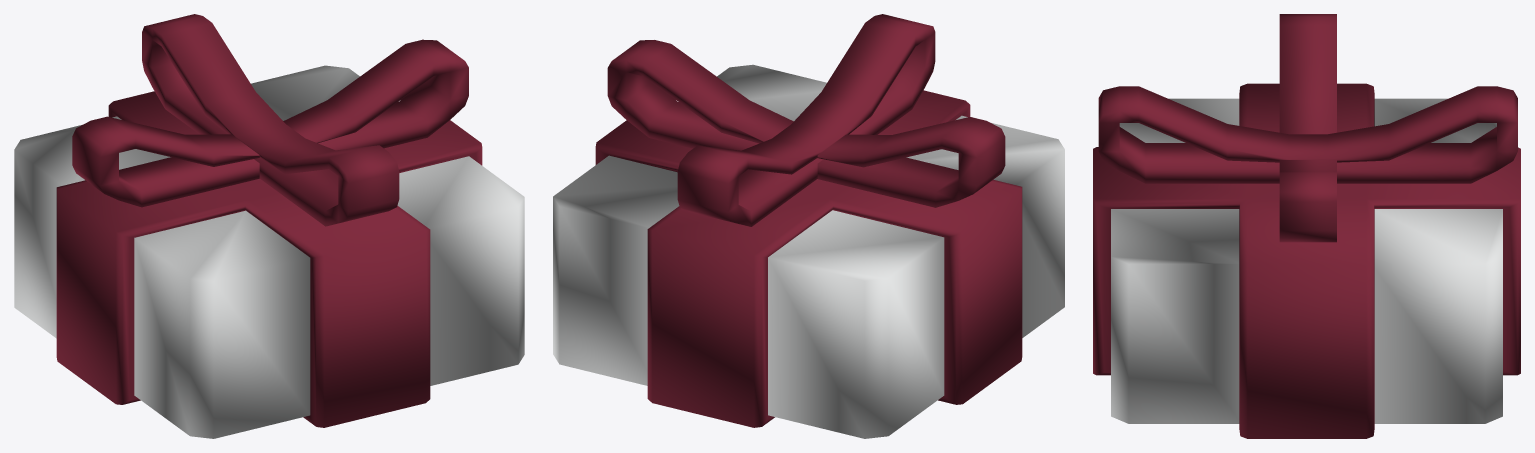
File: giftSmallLow.fbx
3 views of the same model, side by side, from view 1: azimuth 30°, elevation 25°; view 2: azimuth 150°, elevation 25°; view 3: azimuth 270°, elevation 25° (orthographic).
Visible parts, largest first — view 1: giftSmallLow; view 2: giftSmallLow; view 3: giftSmallLow.
Part boxes in pixels (<box>): giftSmallLow: <box>14,14,524,438</box>; giftSmallLow: <box>553,14,1064,438</box>; giftSmallLow: <box>1093,14,1520,438</box>.
Size of the model in its own units: 0.4968 by 0.3184 by 0.4925.
